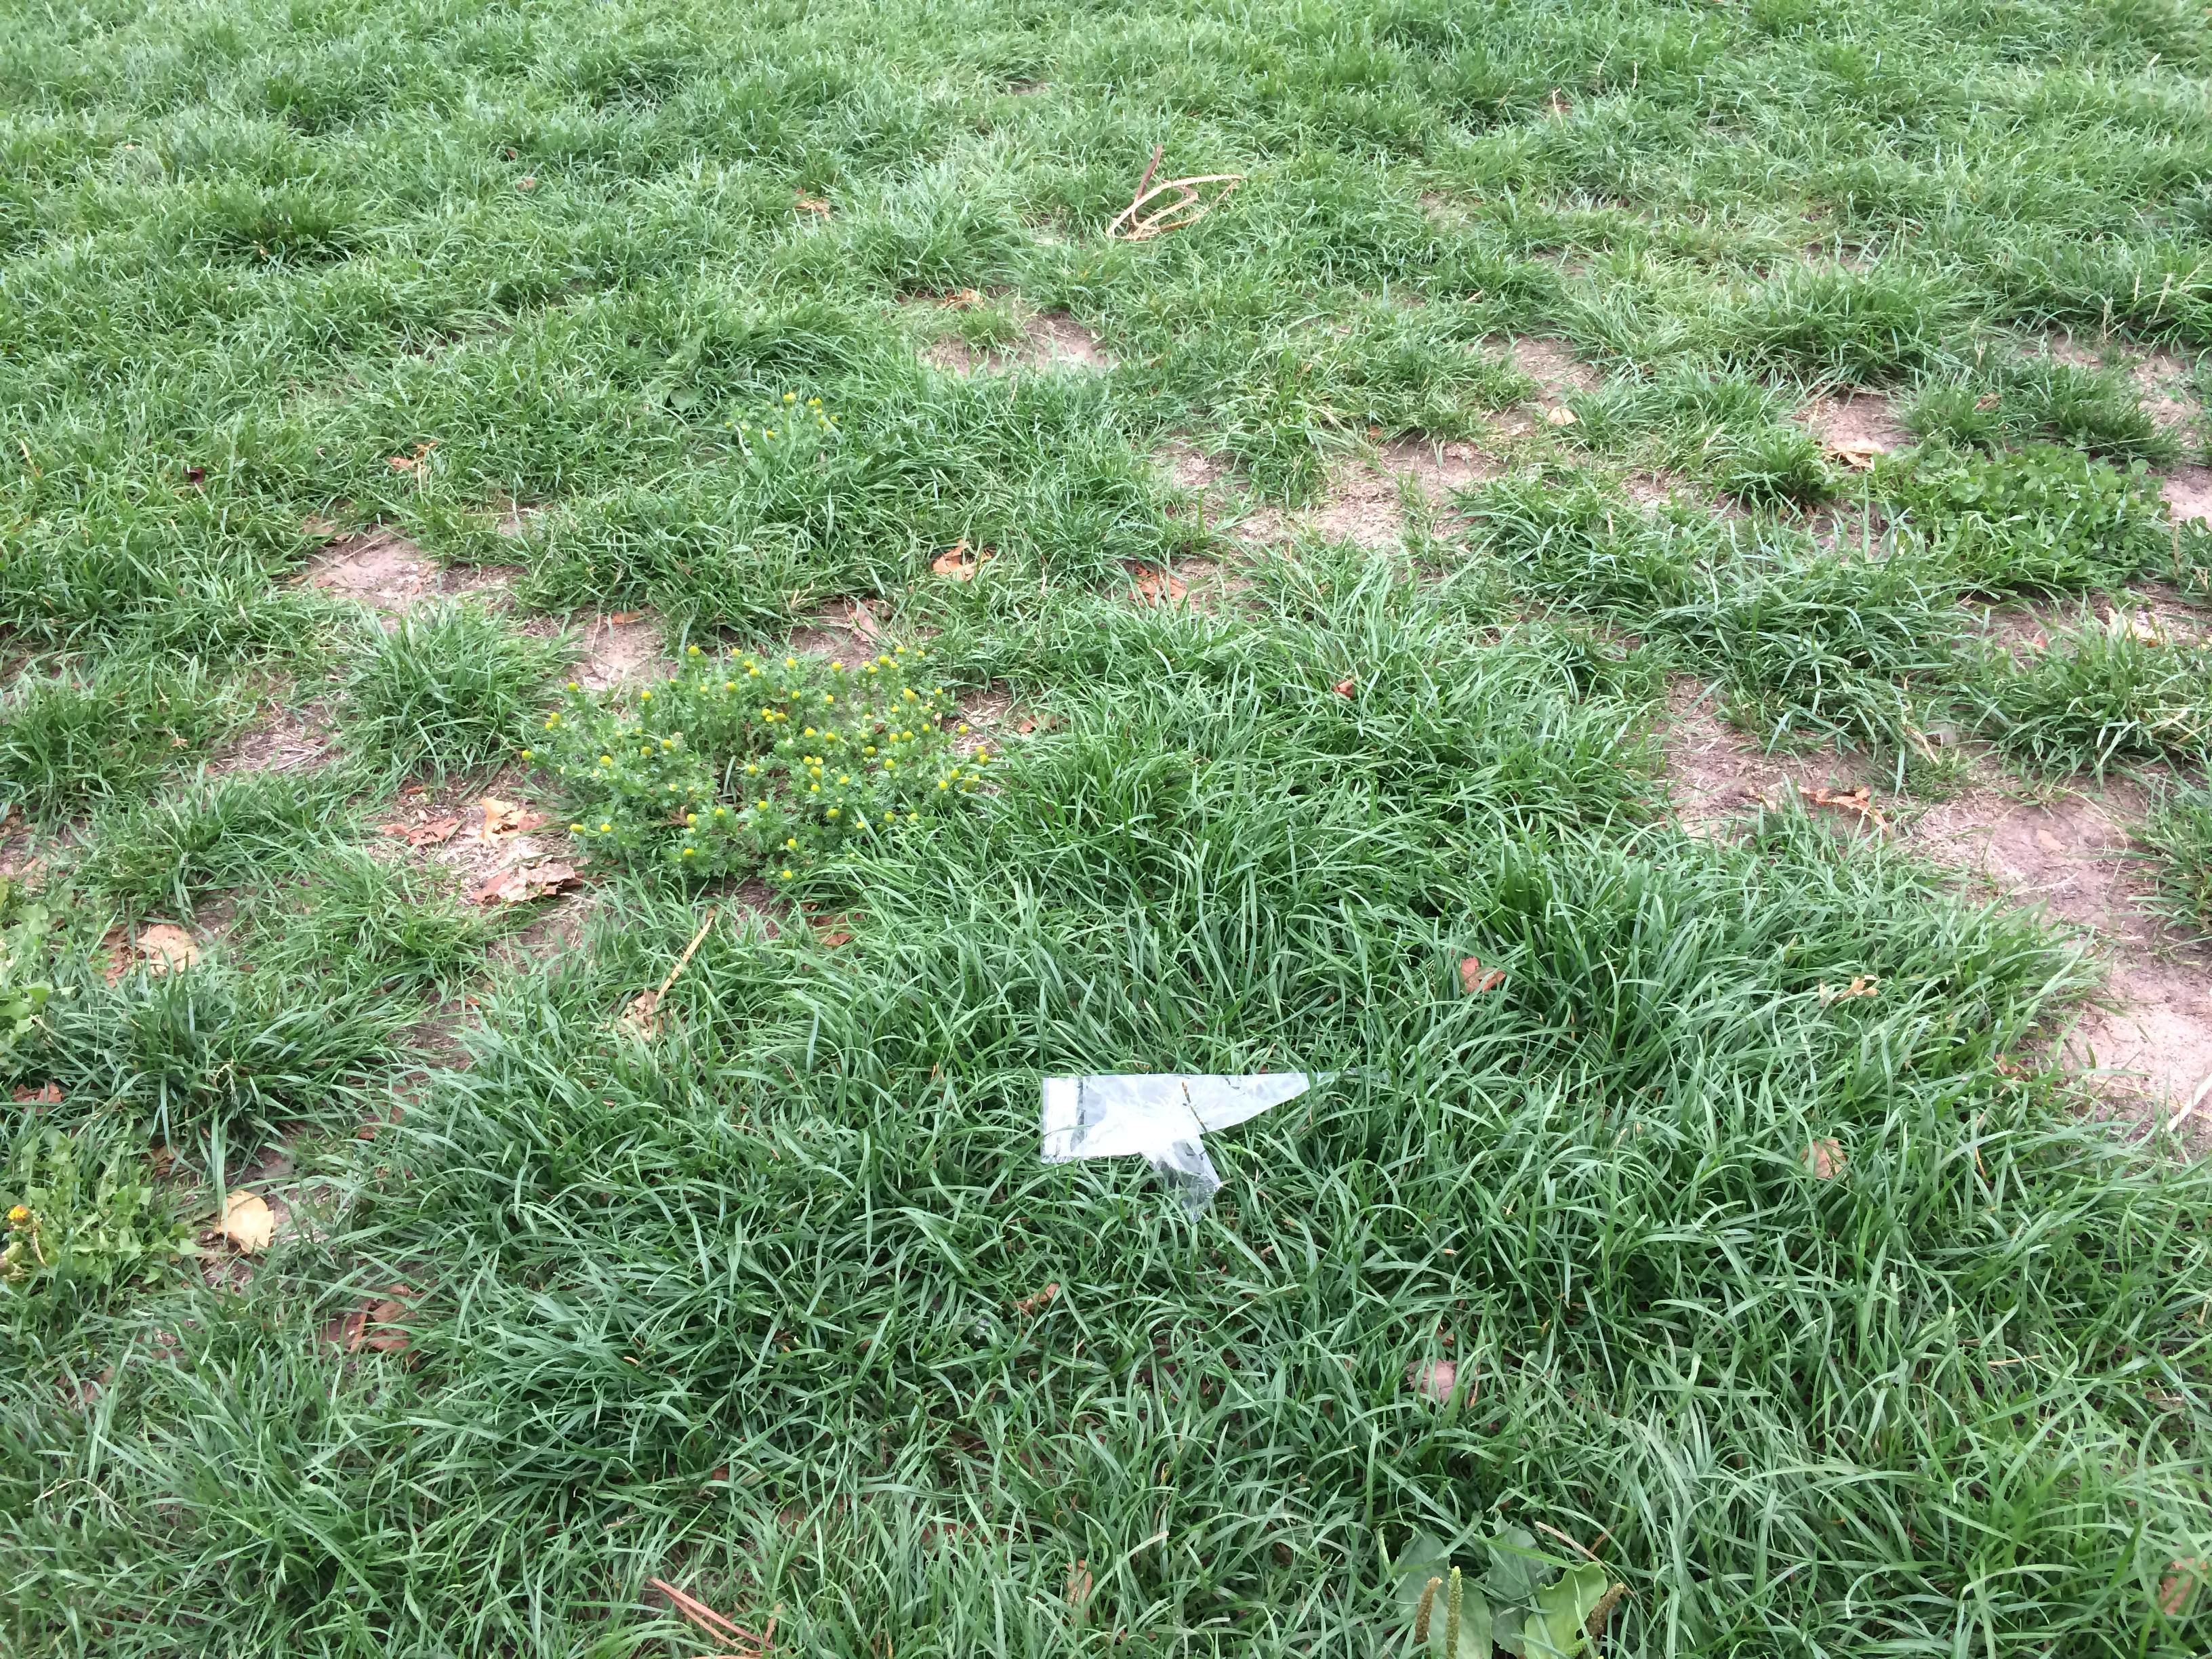Trash: (1033, 1061, 1343, 1175)
